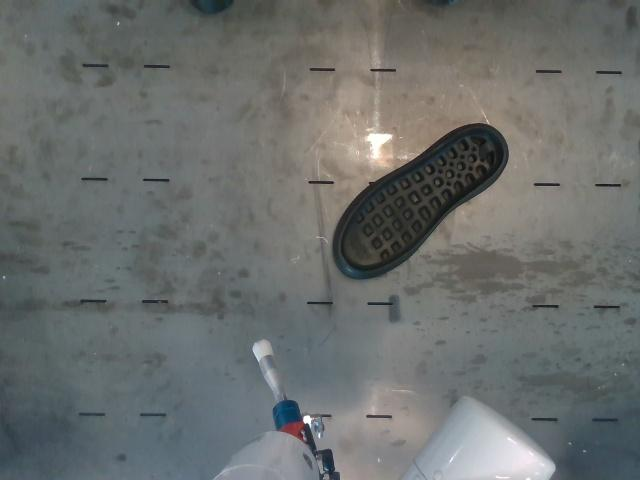shoes: (341, 128, 503, 271)
